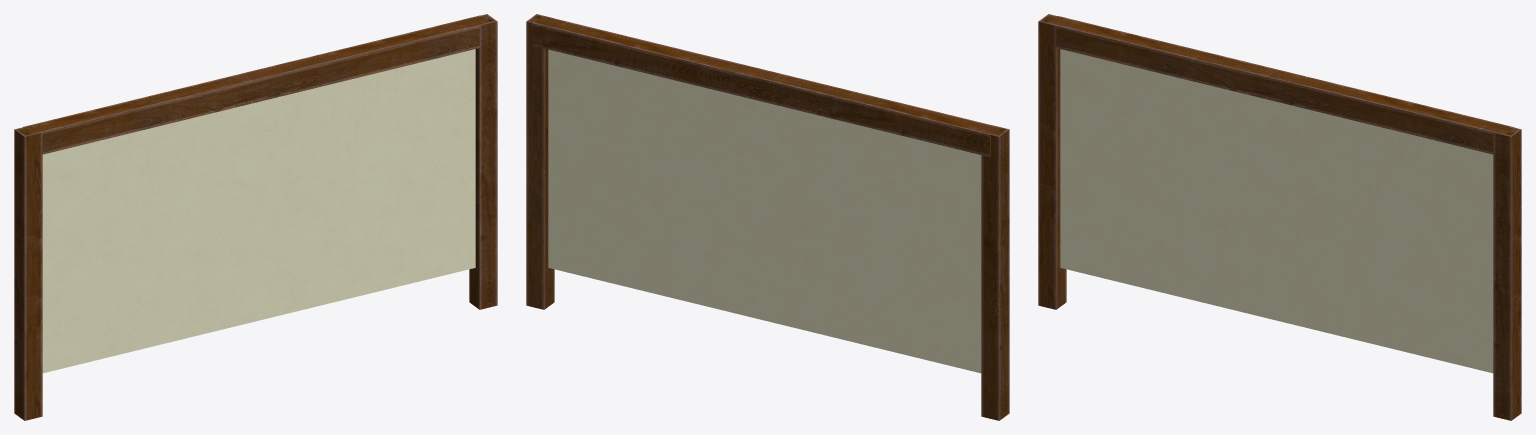
The model's file is JP_Wall.003.fbx.
3 views of the same model, side by side, from view 1: azimuth 30°, elevation 25°; view 2: azimuth 150°, elevation 25°; view 3: azimuth 330°, elevation 25° (orthographic).
Parts seen in each view (by area): view 1: JP_Wall.003; view 2: JP_Wall.003; view 3: JP_Wall.003.
Part boxes in pixels (x1,y1,x2,y2): JP_Wall.003: (14,14,497,420); JP_Wall.003: (526,14,1009,420); JP_Wall.003: (1038,14,1521,420).
Size of the model in its own units: 537 by 308 by 20.78.
